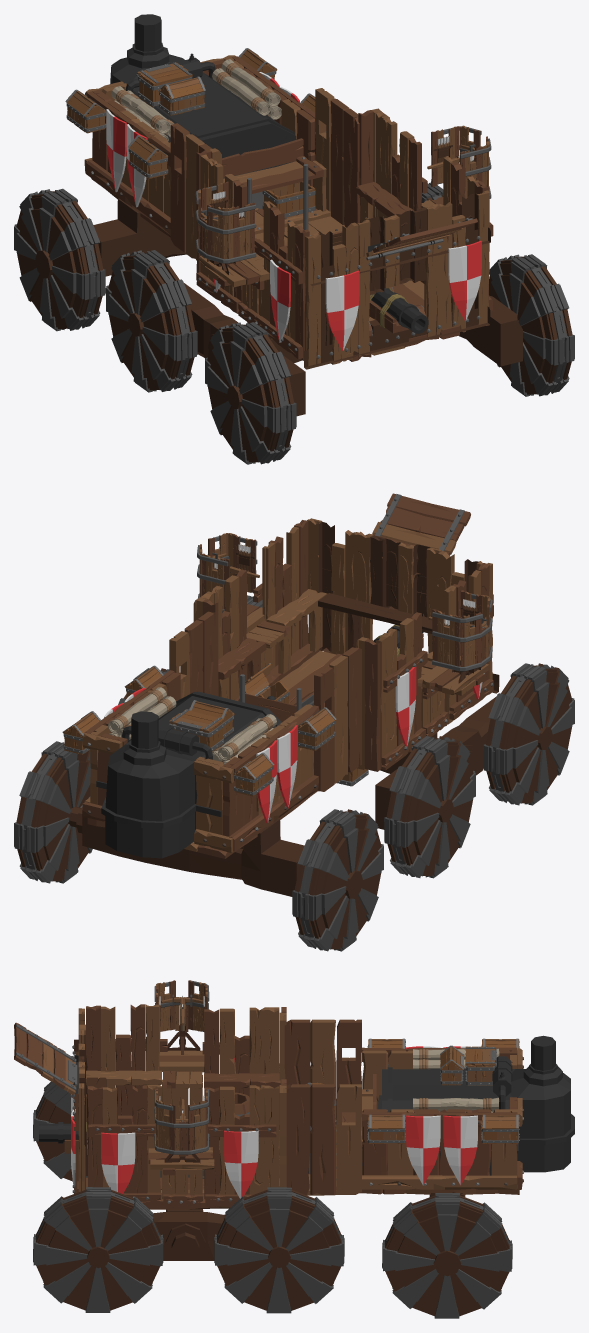
Rendered from uploads_files_4671634_tank+medieval+02.fbx.
3 renders of one model, top to bottom at view 1: azimuth 30°, elevation 25°; view 2: azimuth 150°, elevation 25°; view 3: azimuth 270°, elevation 25°, orthographic. The views are drawn at different scales.
Parts seen in each view (by area): view 1: wood_armor_steam, wood_wall_01, wheel.003, wheel.004, wheel.005, steam_tank, wheel, wood_wall_02.001, wood_wall_03, crossbow_armor, chassis_03, chassis_02.001 (+24 smaller); view 2: wood_armor_steam, wood_wall_01, steam_tank, wheel.003, wheel.004, wheel.005, wheel.002, chassis_03, wood_wall_03.001, wood_wall_02, wood_wall_02.001, crossbow_armor (+16 smaller); view 3: wood_armor_steam, wheel.001, wheel, wheel.002, steam_tank, wood_wall_03, wood_wall_02.001, wood_wall_02, wood_wall_03.001, chassis_02, crossbow_armor.001, wood_wall_04 (+21 smaller).
Boxes of the visible parts, bbox=[...] form: wood_armor_steam: bbox=[84, 55, 381, 280]; wood_wall_01: bbox=[304, 190, 490, 369]; wheel.003: bbox=[205, 322, 296, 464]; wheel.004: bbox=[106, 250, 197, 392]; wheel.005: bbox=[14, 188, 105, 331]; steam_tank: bbox=[110, 14, 296, 178]; wheel: bbox=[489, 254, 574, 396]; wood_wall_02.001: bbox=[356, 111, 427, 222]; wood_wall_03: bbox=[254, 201, 309, 360]; crossbow_armor: bbox=[195, 181, 256, 263]; chassis_03: bbox=[35, 198, 186, 278]; chassis_02.001: bbox=[128, 283, 305, 416]; wood_armor_steam: bbox=[82, 597, 380, 858]; wood_wall_01: bbox=[307, 518, 499, 693]; steam_tank: bbox=[96, 691, 281, 858]; wheel.003: bbox=[483, 663, 574, 805]; wheel.004: bbox=[384, 736, 475, 878]; wheel.005: bbox=[292, 809, 383, 951]; wheel.002: bbox=[14, 741, 92, 883]; chassis_03: bbox=[68, 806, 362, 898]; wood_wall_03.001: bbox=[253, 520, 327, 674]; wood_wall_02: bbox=[375, 612, 427, 770]; wood_wall_02.001: bbox=[200, 569, 266, 700]; crossbow_armor: bbox=[432, 590, 492, 671]; wood_armor_steam: bbox=[279, 1007, 523, 1195]; wheel.001: bbox=[214, 1187, 344, 1313]; wheel: bbox=[33, 1187, 163, 1312]; wheel.002: bbox=[382, 1193, 512, 1318]; steam_tank: bbox=[378, 1035, 574, 1175]; wood_wall_03: bbox=[86, 1004, 167, 1123]; wood_wall_02.001: bbox=[204, 1085, 279, 1206]; wood_wall_02: bbox=[202, 1007, 280, 1097]; wood_wall_03.001: bbox=[87, 1085, 161, 1205]; chassis_02: bbox=[87, 1212, 290, 1267]; crossbow_armor.001: bbox=[154, 1087, 209, 1156]; wood_wall_04: bbox=[159, 1050, 204, 1118].
Bounding box in the file's own units: 819 × 589 × 1390.
